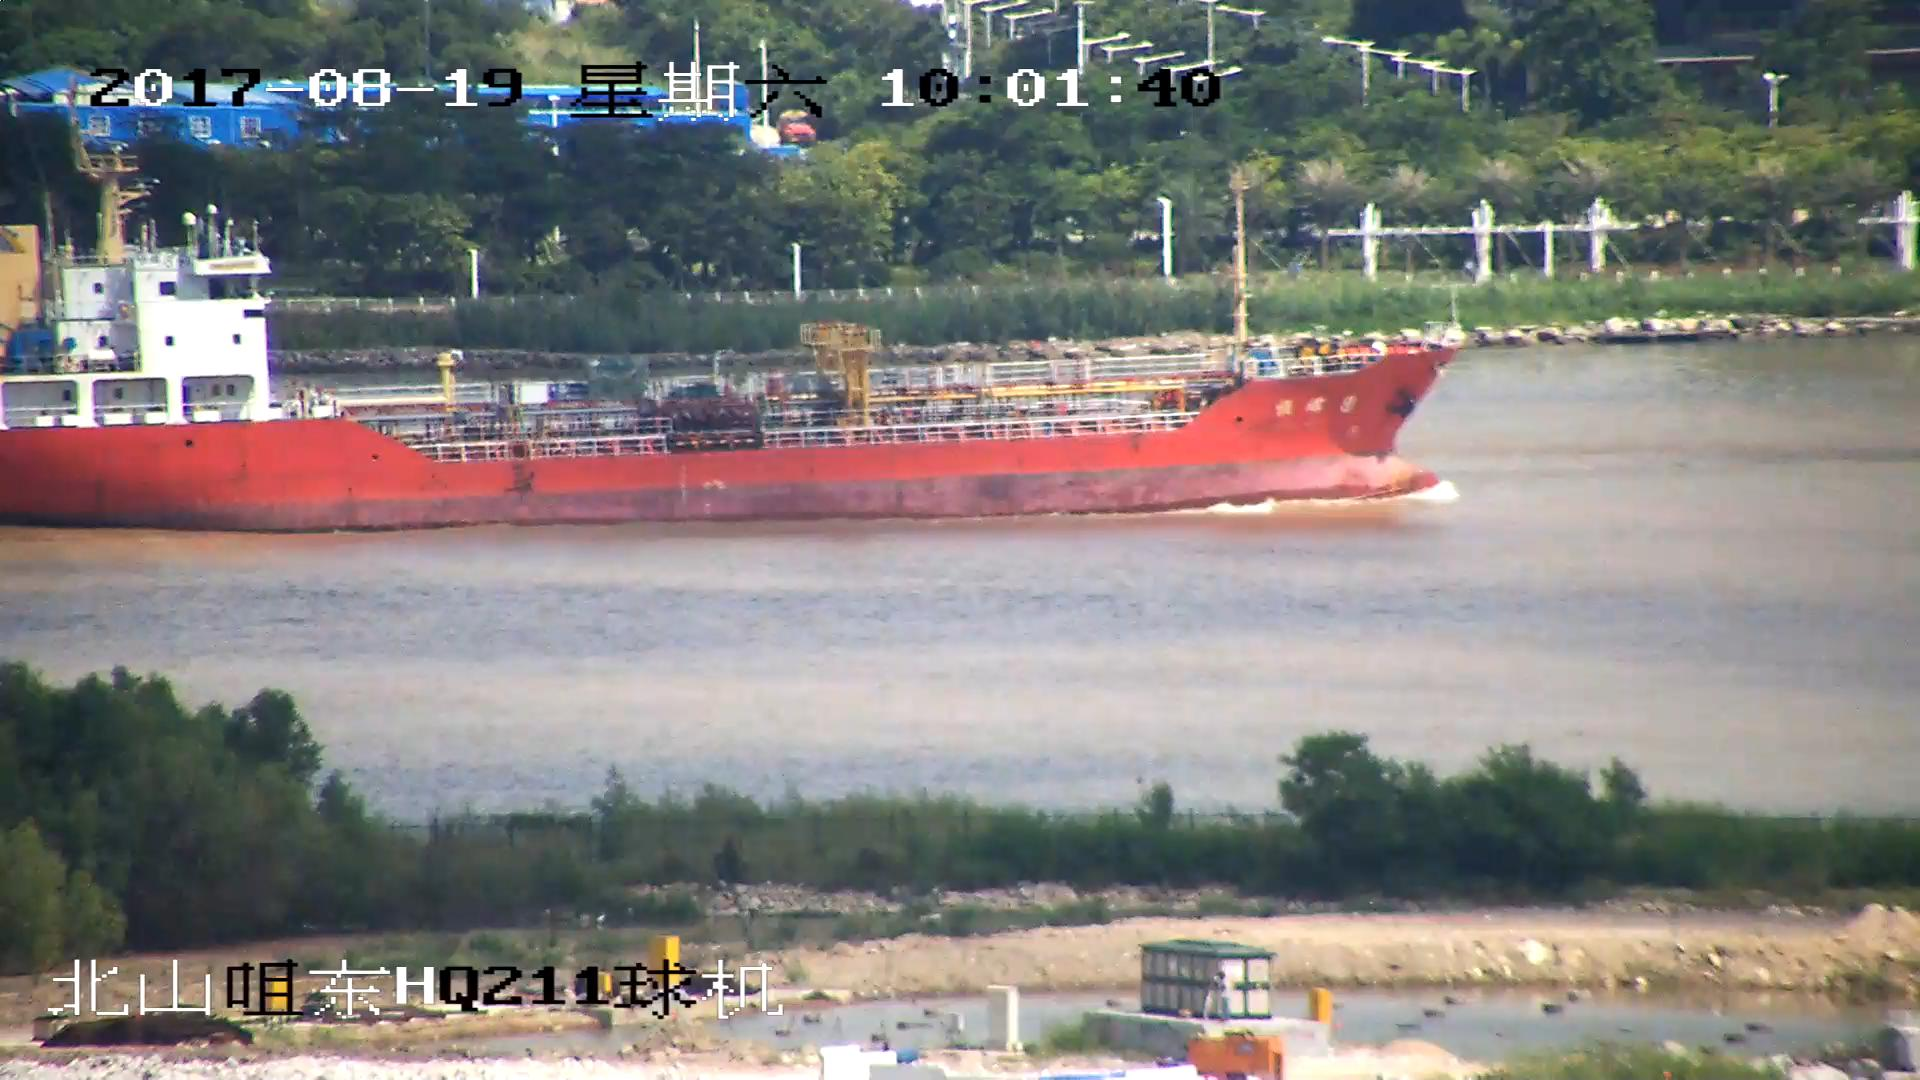general cargo ship: (1, 212, 1466, 517)
